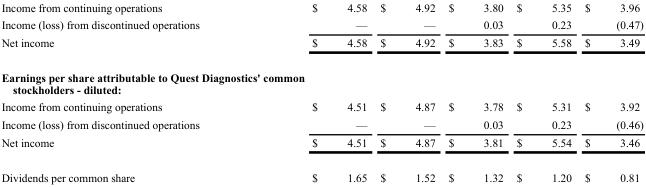table: (0, 0, 642, 183)
table column: (0, 0, 255, 183), (255, 0, 372, 183), (372, 0, 441, 183), (441, 0, 509, 183), (509, 0, 577, 183), (577, 0, 642, 183)
table column header: (0, 0, 642, 15)
table projected row header: (0, 59, 642, 97)
table row: (0, 59, 642, 97), (0, 33, 642, 59), (0, 133, 642, 159), (0, 159, 642, 183), (0, 15, 642, 33), (0, 97, 642, 115), (0, 115, 642, 133), (0, 0, 642, 15)
